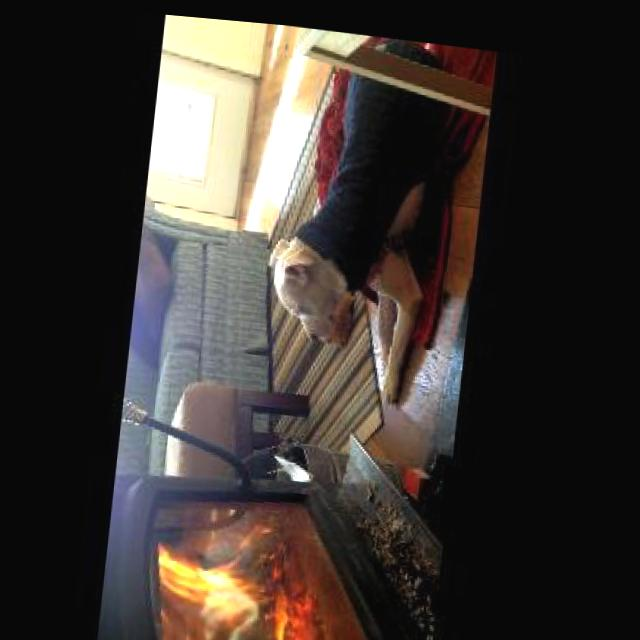helmet: (152, 517, 328, 640)
